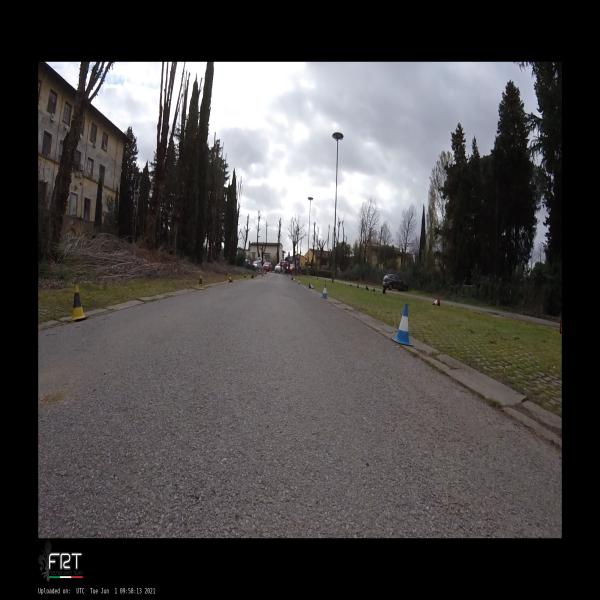blue_cone: (391, 303, 414, 346), (321, 284, 328, 299), (309, 283, 314, 289), (298, 278, 300, 284)
orange_cone: (432, 298, 440, 306)
unknown_cone: (371, 287, 375, 292), (366, 286, 370, 291), (383, 289, 386, 294), (357, 283, 359, 289), (252, 275, 254, 279)
yellow_cone: (68, 284, 90, 322), (196, 274, 204, 290), (228, 275, 232, 283), (244, 274, 246, 280)
